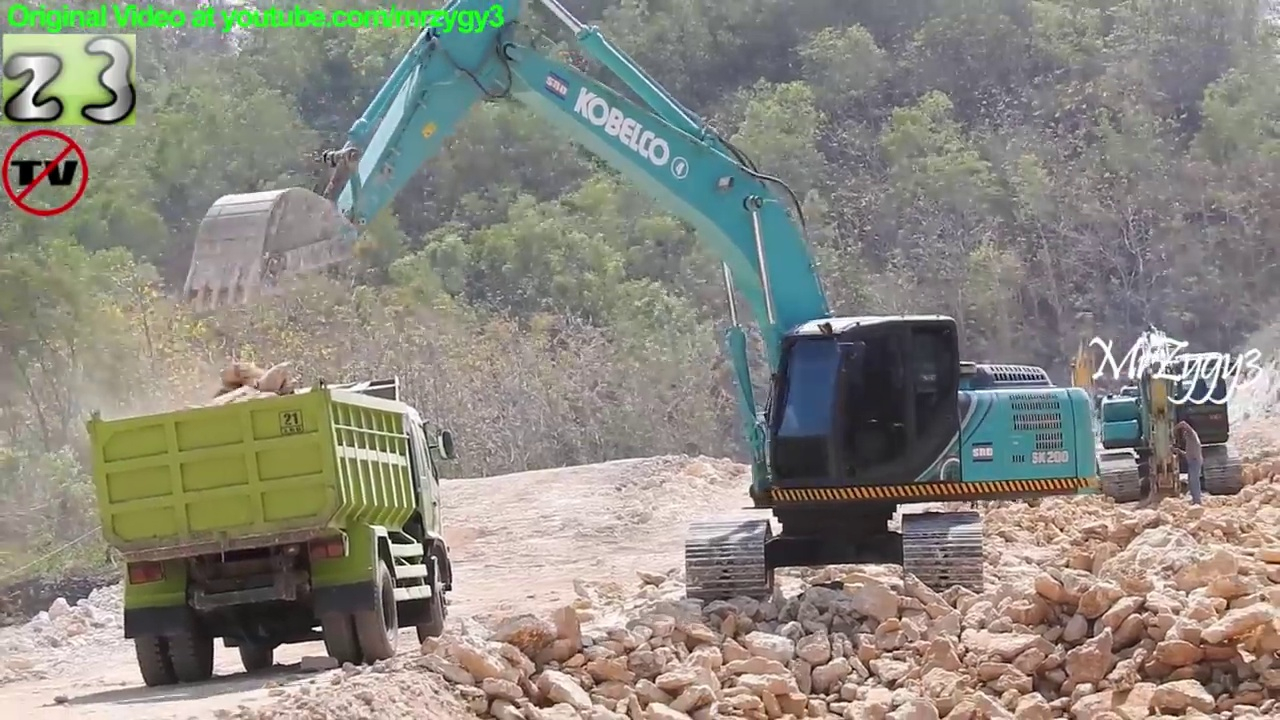excavator: (172, 1, 1107, 613), (1086, 317, 1250, 520), (1016, 307, 1157, 502)
truck: (81, 371, 465, 692)
worker: (1168, 414, 1215, 510)
